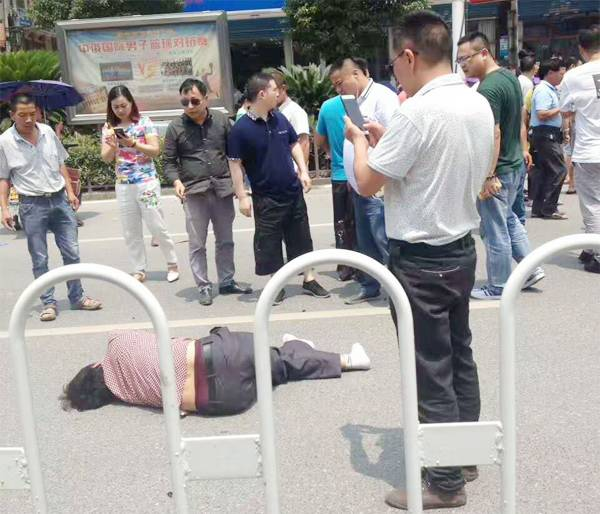10+: (1, 17, 600, 502)
down: (50, 324, 376, 423)
